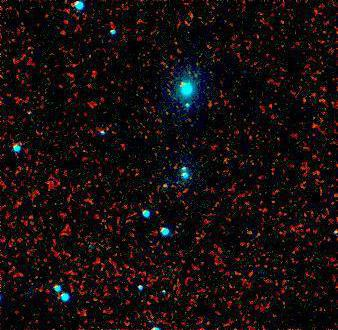star: (176, 166, 206, 196)
